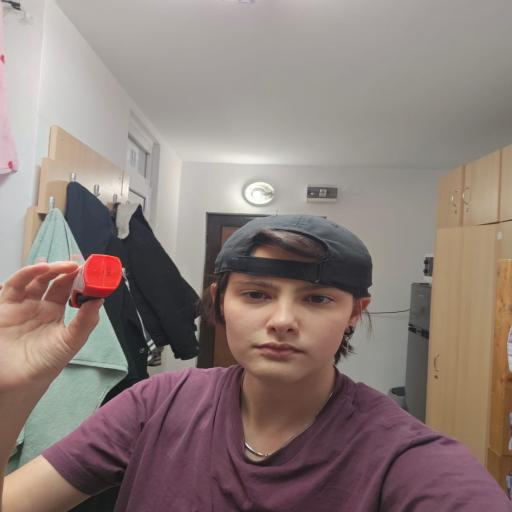Super Glue: (66, 254, 122, 307)
